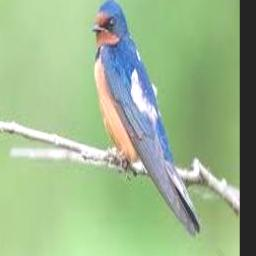Swallow: (91, 1, 201, 236)
